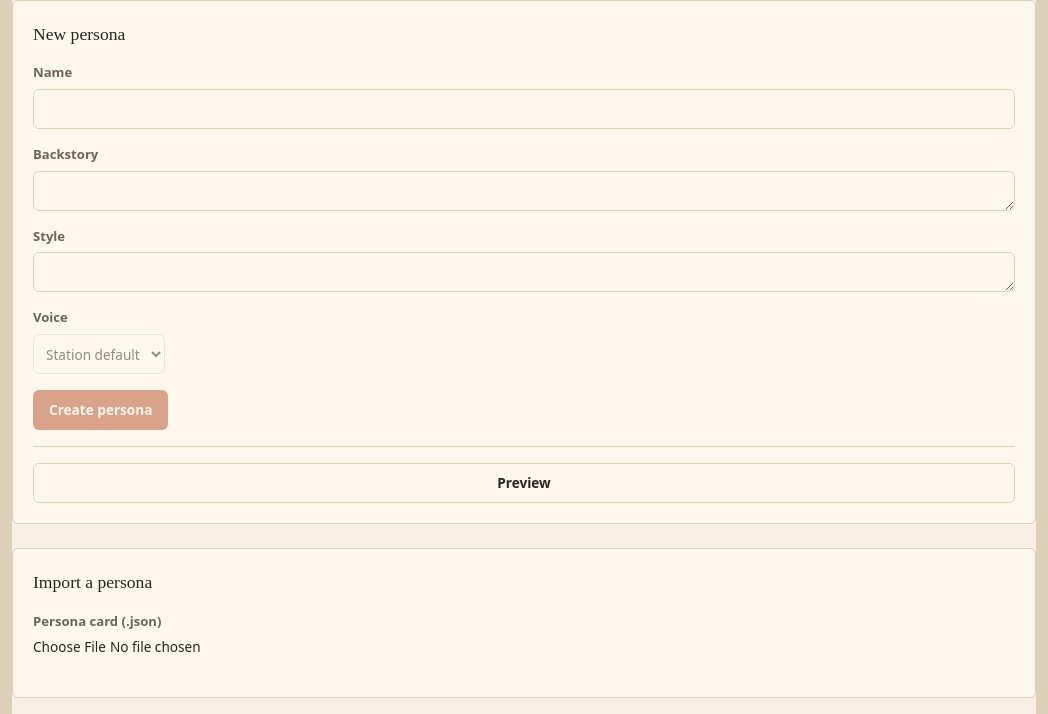
Feature: Author personas from the console › Scenario: preview › previews draft (unsaved) persona fields
The image size is (1048, 714).
Type "Test DJ" into the field labelled "Name" at coordinates (524, 109), box [33,89,1015,129]
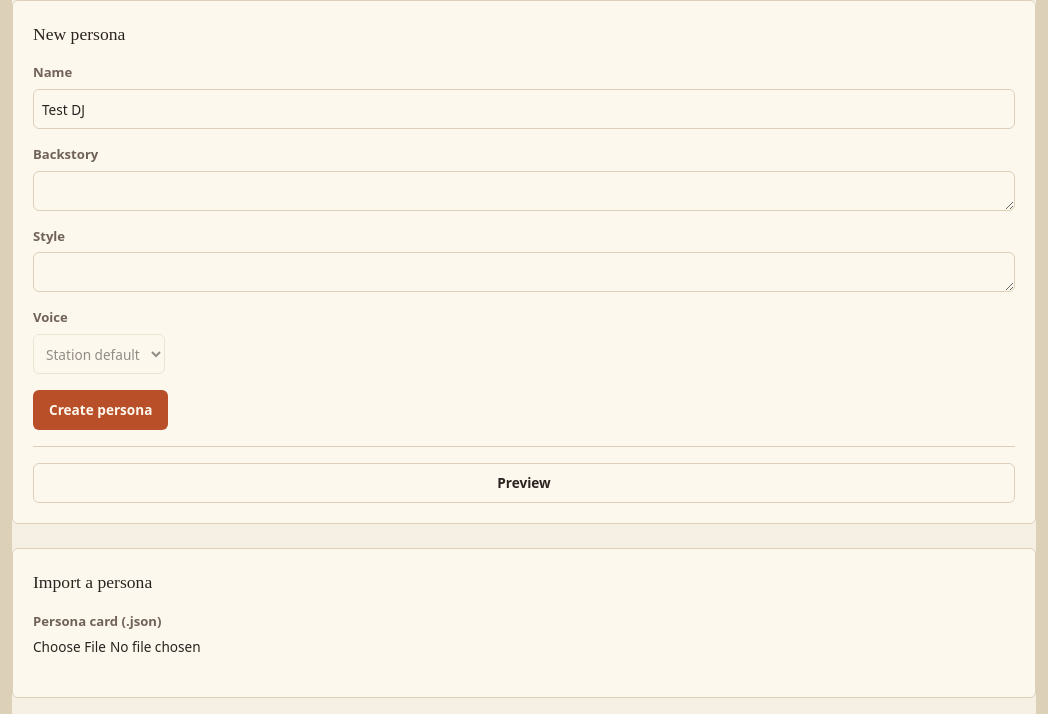
Type "Unsaved so far." into the text box labelled "Backstory" at coordinates (524, 191), box [33,171,1015,211]
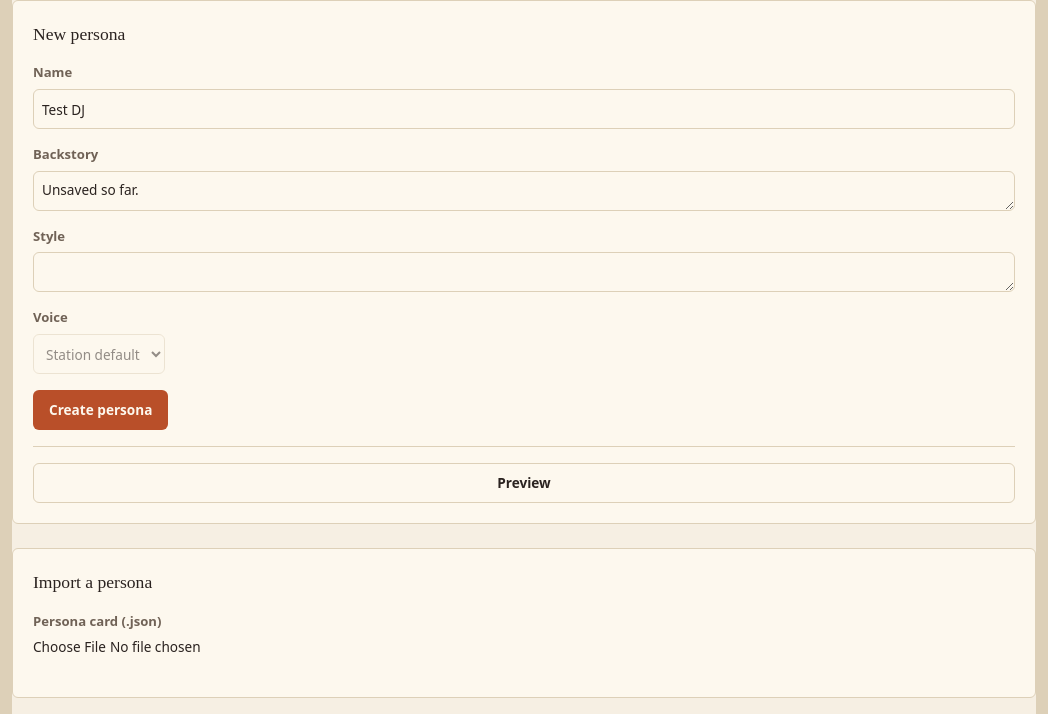
Type "Casual." into the text box labelled "Style" at coordinates (524, 272), box [33,252,1015,292]
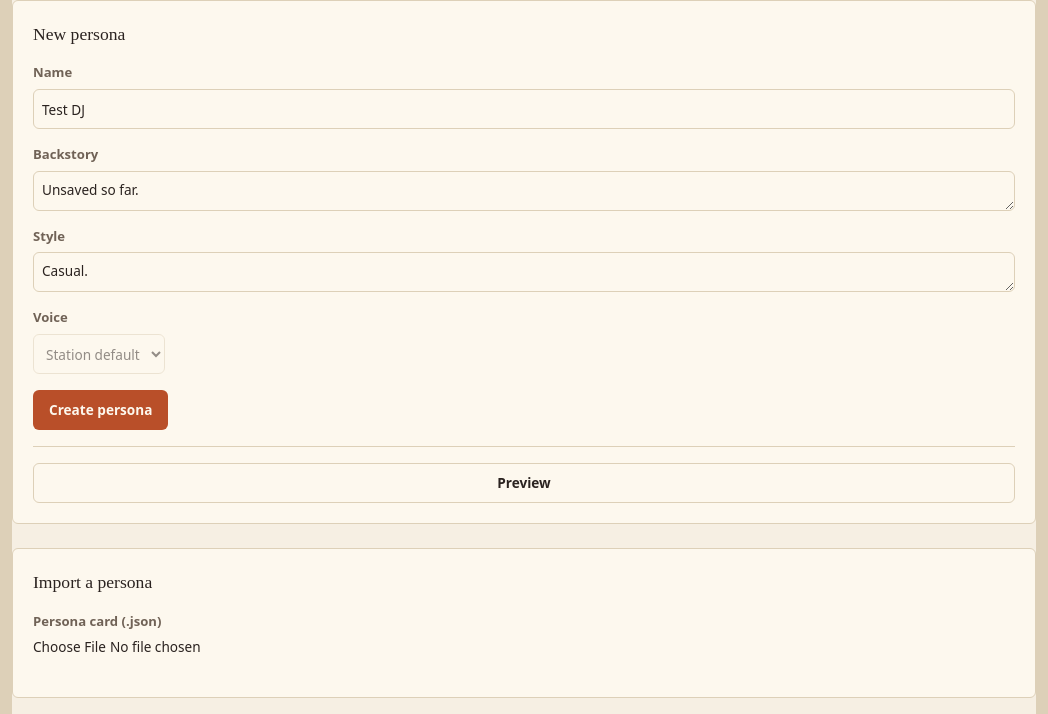
Click the button "Preview" at coordinates (524, 483), box [33,463,1015,503]
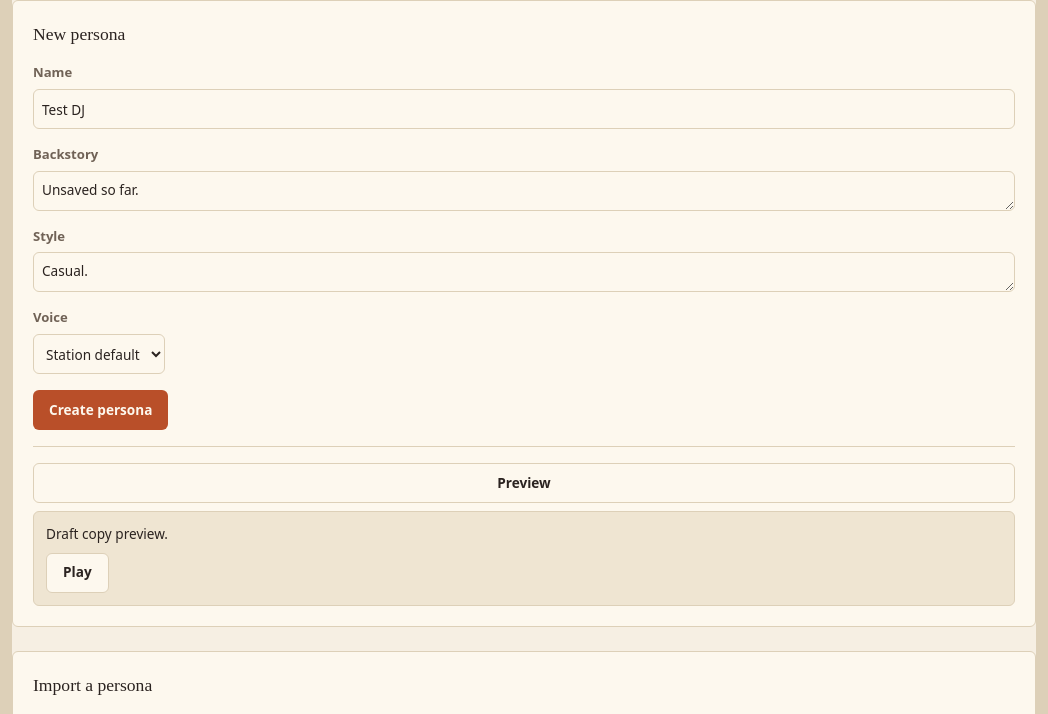
Expected: the text "Draft copy preview." is shown, [46,524,168,543]
